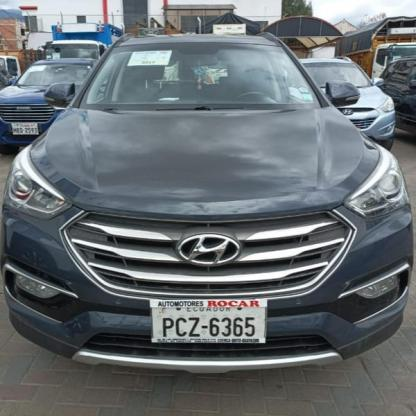Placa: (150, 298, 269, 349)
